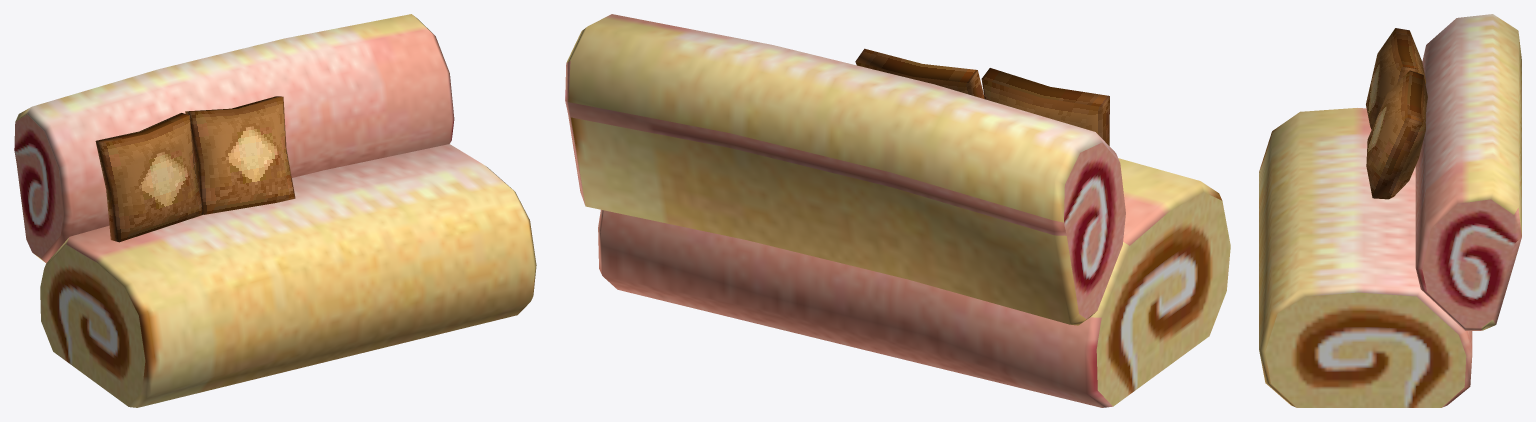
Rendered from int_swt_chairL.dae.
3 views of the same model, side by side, from view 1: azimuth 30°, elevation 25°; view 2: azimuth 150°, elevation 25°; view 3: azimuth 270°, elevation 25° (orthographic). The views are drawn at different scales.
Parts seen in each view (by area): view 1: int_swt_chairL; view 2: int_swt_chairL; view 3: int_swt_chairL.
Part boxes in pixels (x1=…): int_swt_chairL: x1=14, y1=14, x2=536, y2=407; int_swt_chairL: x1=565, y1=14, x2=1230, y2=407; int_swt_chairL: x1=1259, y1=14, x2=1521, y2=407.
Size of the model in its own units: 52 by 29.28 by 31.66.
Materials: 2 (2 with a texture image).
